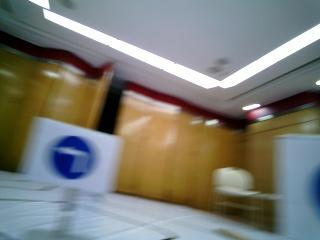left: (39, 125, 105, 181)
